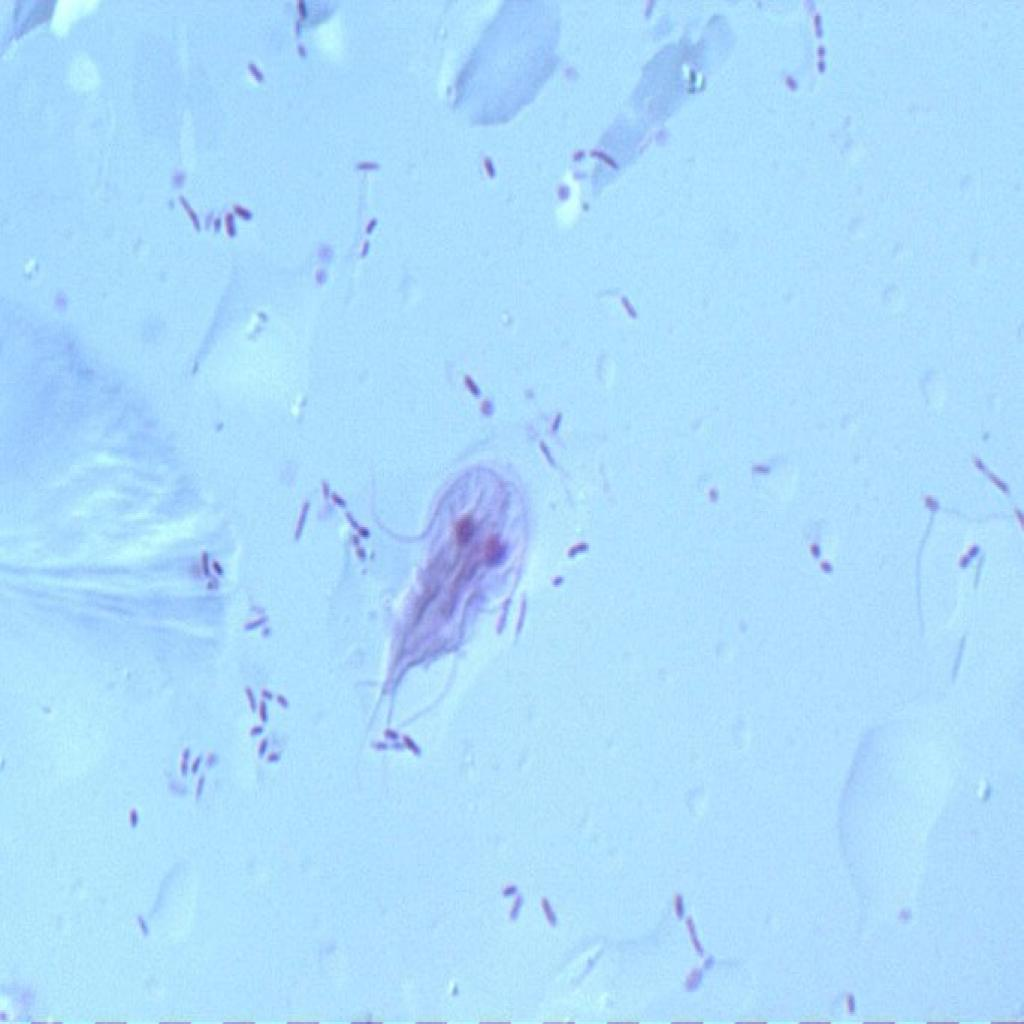Giardia: (352, 449, 536, 749)
